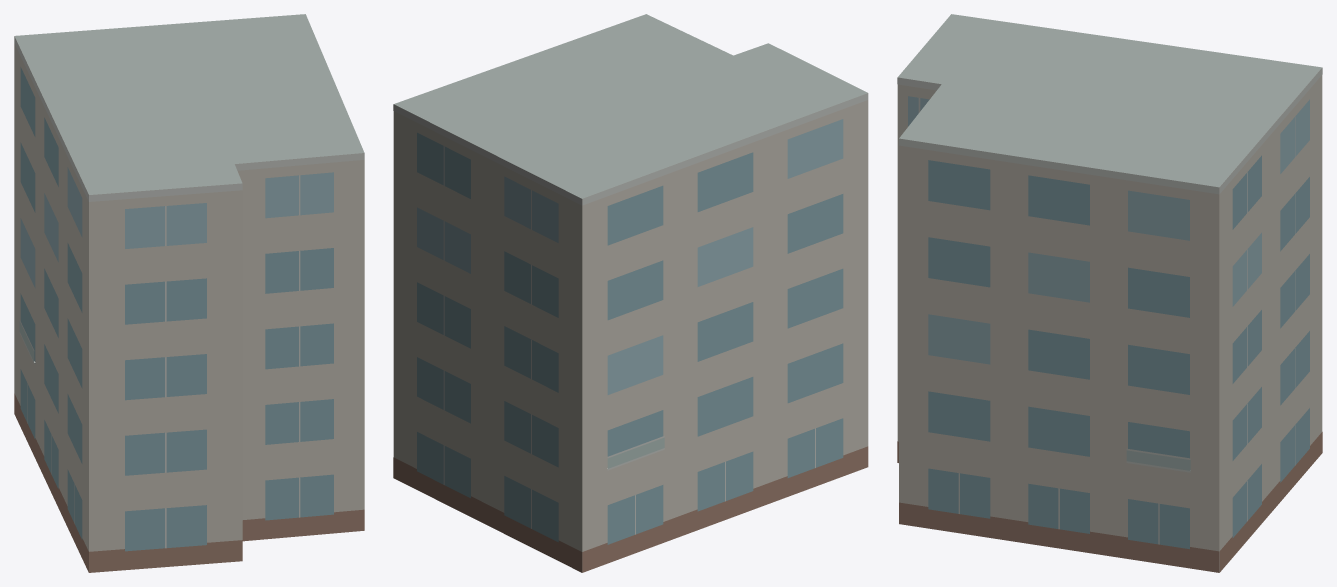
The model's file is survey-upis-32951753.glb.
3 views of the same model, side by side, from view 1: azimuth 30°, elevation 25°; view 2: azimuth 150°, elevation 25°; view 3: azimuth 270°, elevation 25° (orthographic). The views are drawn at different scales.
Parts seen in each view (by area): view 1: survey-upis-32951753.tmp; view 2: survey-upis-32951753.tmp; view 3: survey-upis-32951753.tmp.
Part boxes in pixels (<box>): survey-upis-32951753.tmp: <box>14,14,364,572</box>; survey-upis-32951753.tmp: <box>393,14,868,572</box>; survey-upis-32951753.tmp: <box>897,14,1322,572</box>.
Size of the model in its own units: 12.93 by 13.4 by 13.4.
